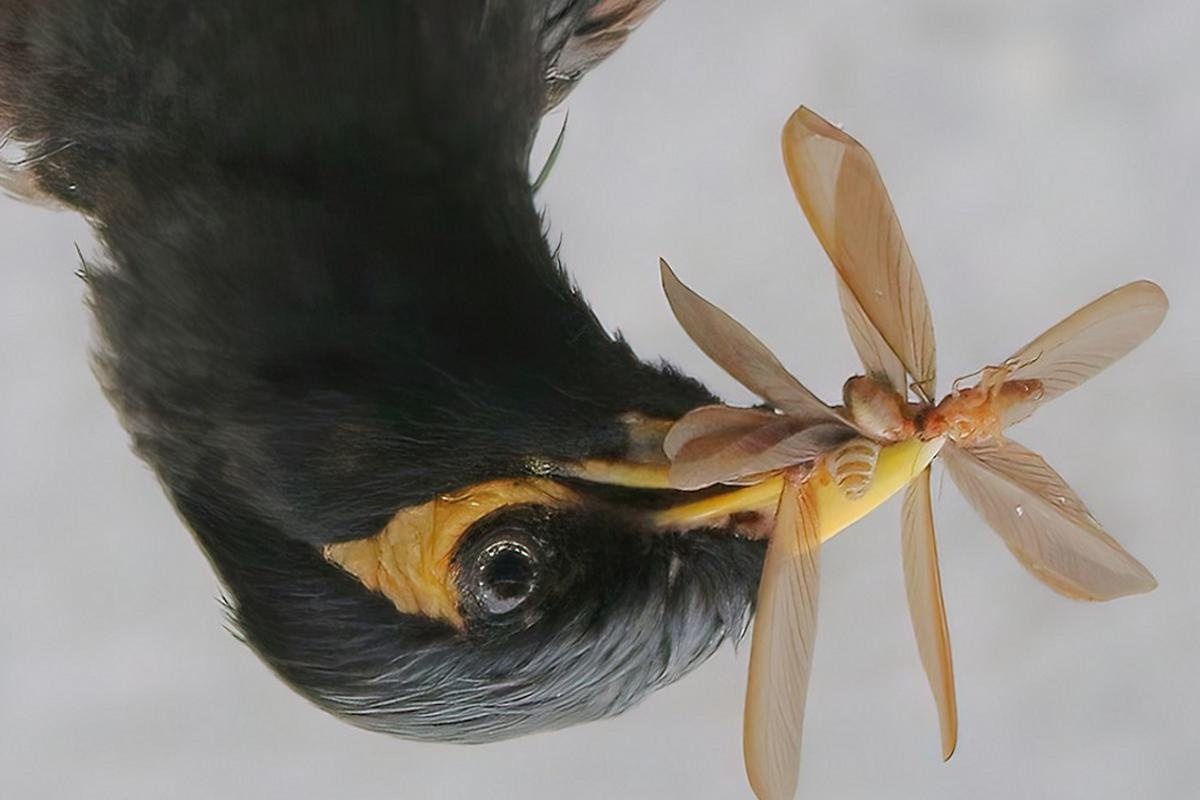myna: (40, 1, 976, 696)
